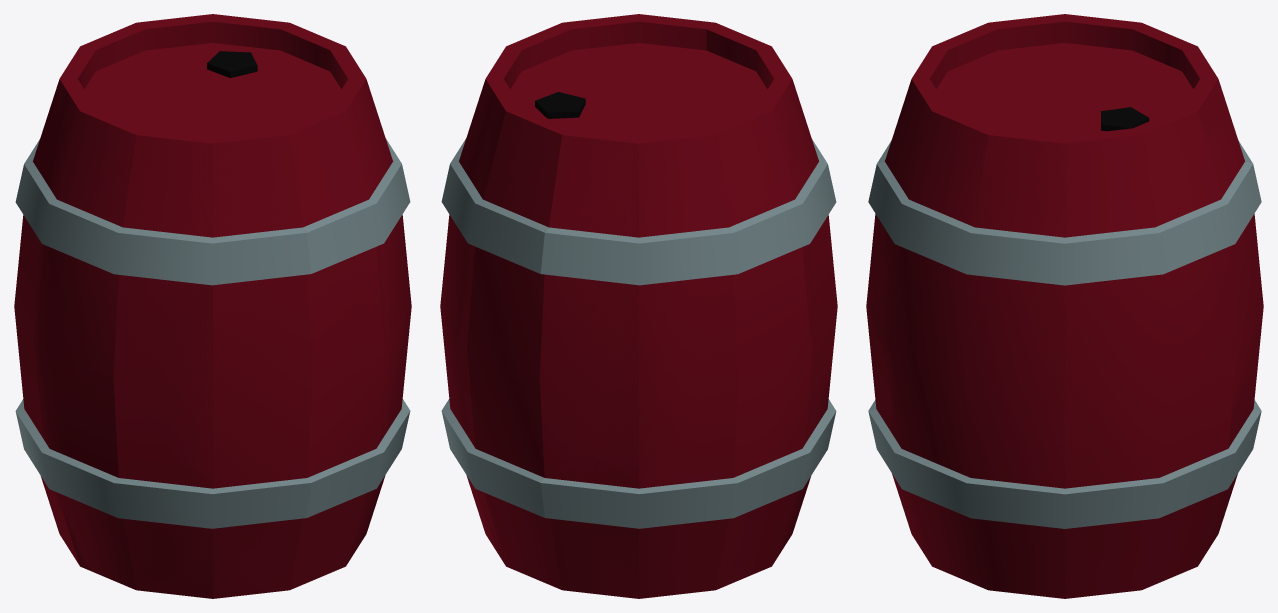
Rendered from explosive barrel.fbx.
3 renders of one model, left to right at view 1: azimuth 30°, elevation 25°; view 2: azimuth 150°, elevation 25°; view 3: azimuth 270°, elevation 25°, orthographic.
Visible parts, largest first — view 1: Cylinder; view 2: Cylinder; view 3: Cylinder.
Part boxes in pixels (x1=…): Cylinder: x1=14, y1=14, x2=411, y2=598; Cylinder: x1=440, y1=14, x2=837, y2=598; Cylinder: x1=866, y1=14, x2=1263, y2=598.
Bounding box in the file's own units: 71.21 × 90 × 71.21.
